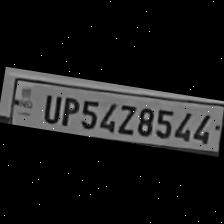4: (189, 108, 213, 144), (98, 98, 120, 134), (172, 108, 194, 142)
5: (75, 95, 100, 131), (151, 104, 175, 140)
8: (132, 102, 156, 138)
P: (57, 94, 80, 128)
U: (36, 90, 64, 124)
Z: (113, 100, 137, 136)
